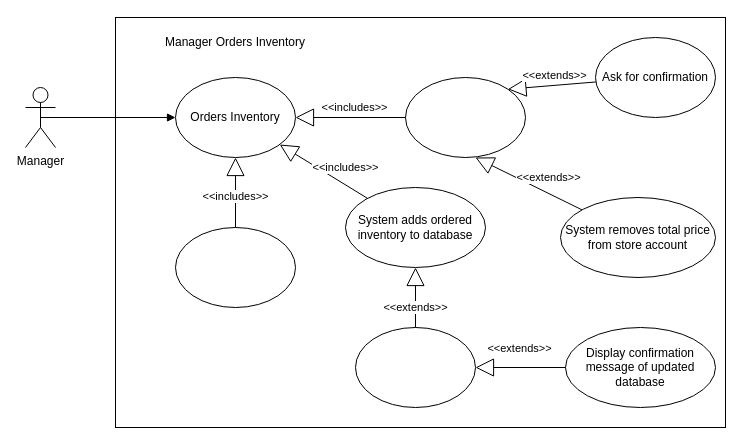
Image size: 743x445. Some labels were removed from this diagram. Each missing label, with the centre of its shape:
"Make Purchase" belongs at [465,117].
"System gets prices of listed inventory" belongs at [235,267].
"Update Inventory Database" belongs at [415,367].
